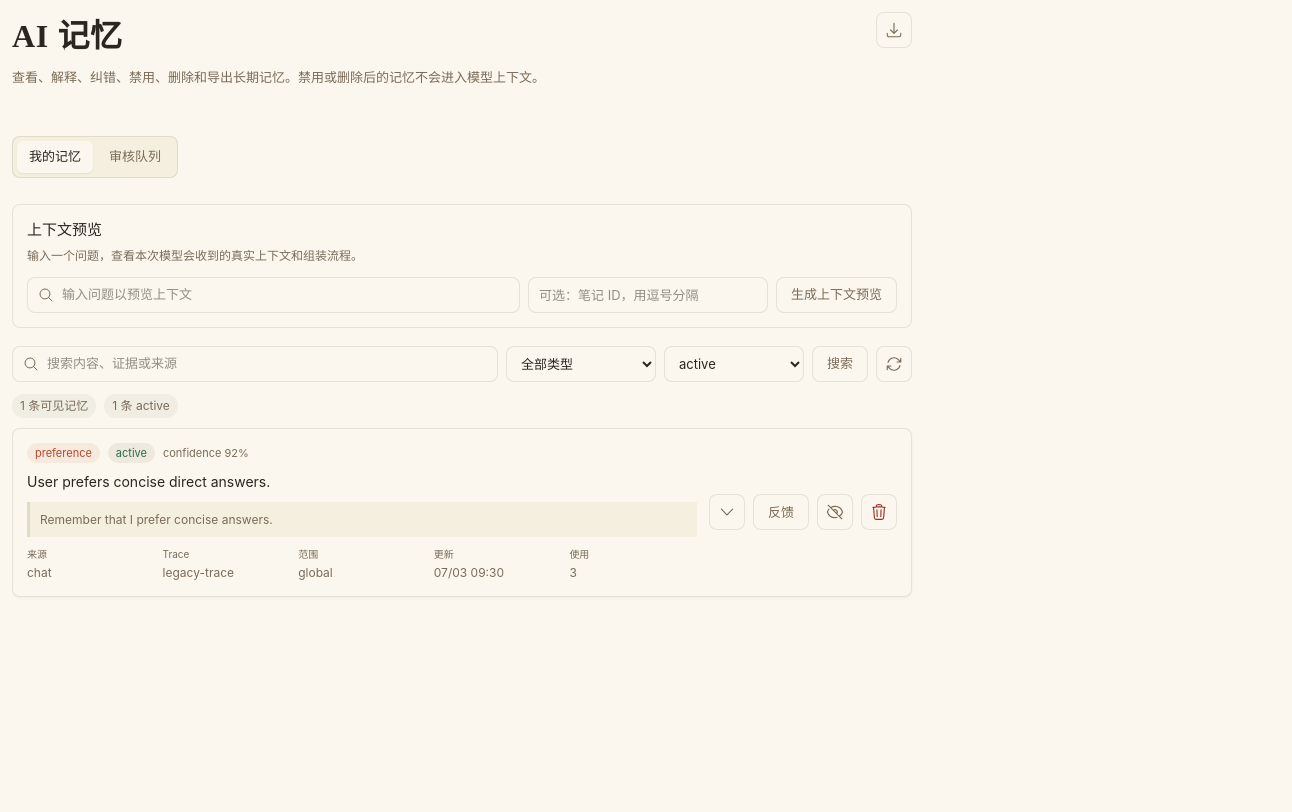
Test: MemoryControlPanel behavior › renders a legacy fallback when metadata is missing or invalid
Check: the text "User prefers concise direct answers." is shown, box [27,473,270,490]
Click the button named "展开解释 2". click: (727, 512)
box: [709,494,745,530]
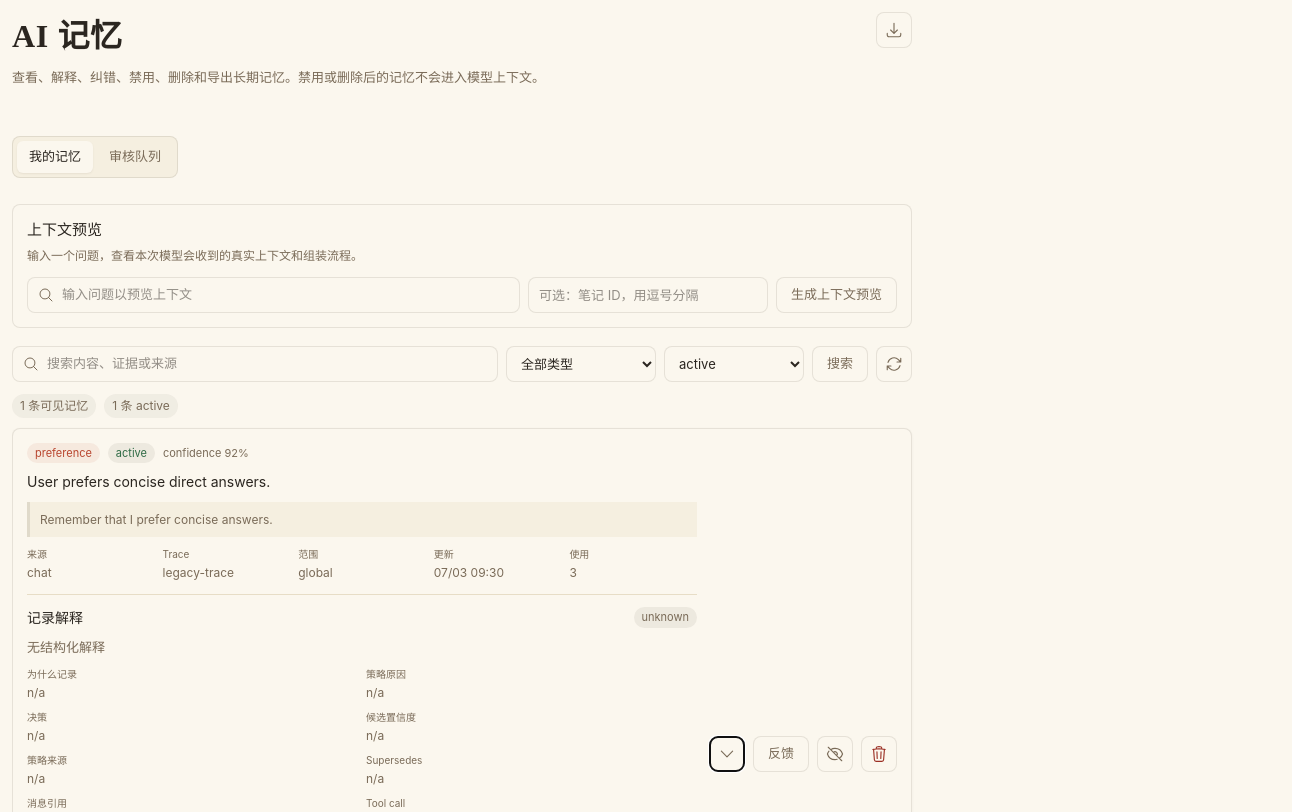
Check: the text "legacy-trace" is shown, box [163,565,234,580]
Check: the text "无结构化解释" is shown, box [27,639,105,655]
Check: the text "unknown" is shown, box [634,607,697,628]
